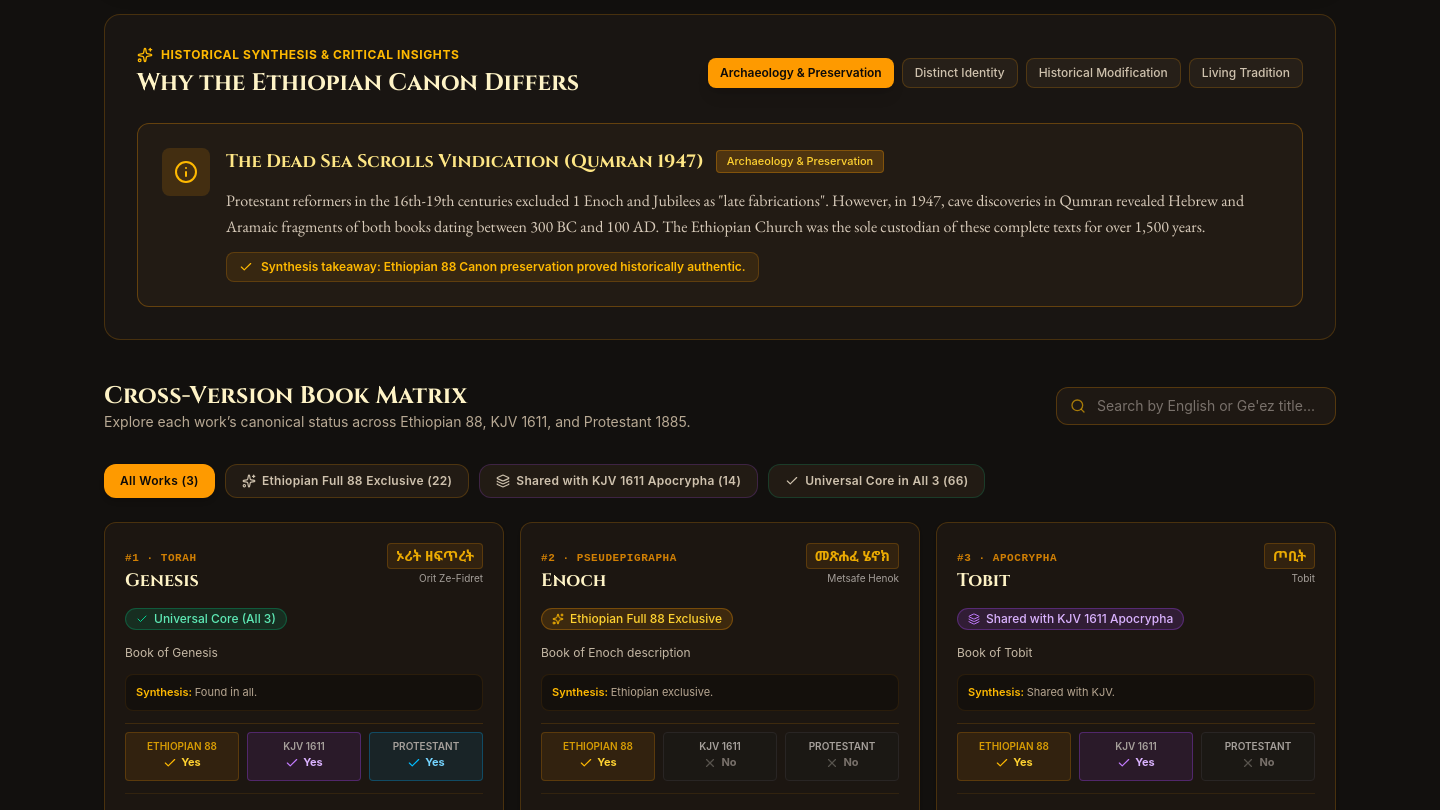
Test: CanonDashboard Component › shows empty state when no books match filters
(page scrolled)
Type "nonexistent book" into the field with placeholder "Search by English or Ge'ez title...".
click(1196, 406); type("nonexistent book")  # box x1=1056 y1=387 x2=1336 y2=425
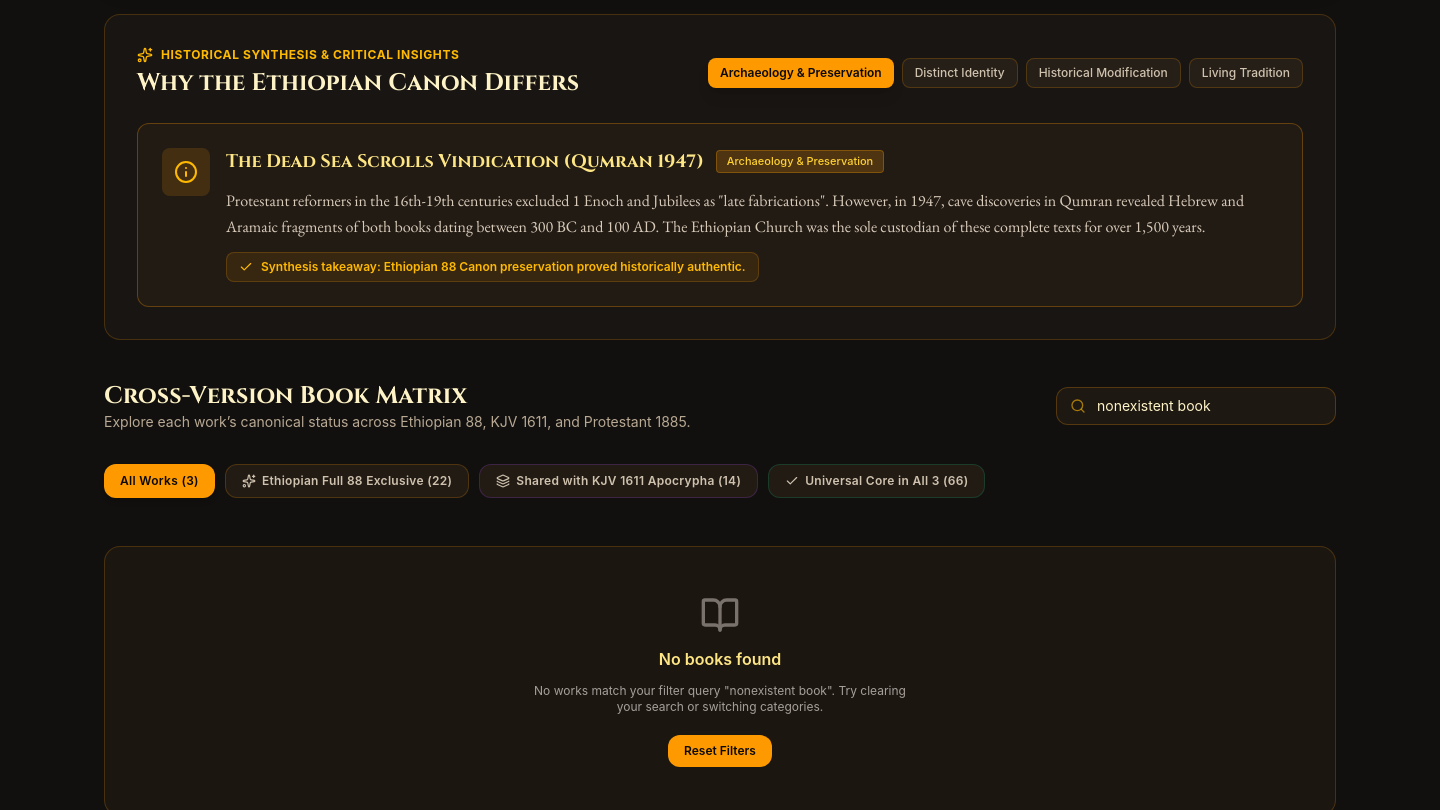
Check: the heading "No books found" is shown, box x1=659 y1=649 x2=781 y2=669
Check: the text "No works match your filter query" is shown, box x1=534 y1=683 x2=730 y2=698
Test Reset Filters button
Click the button "Reset Filters".
click(720, 751)  # box x1=668 y1=735 x2=772 y2=767
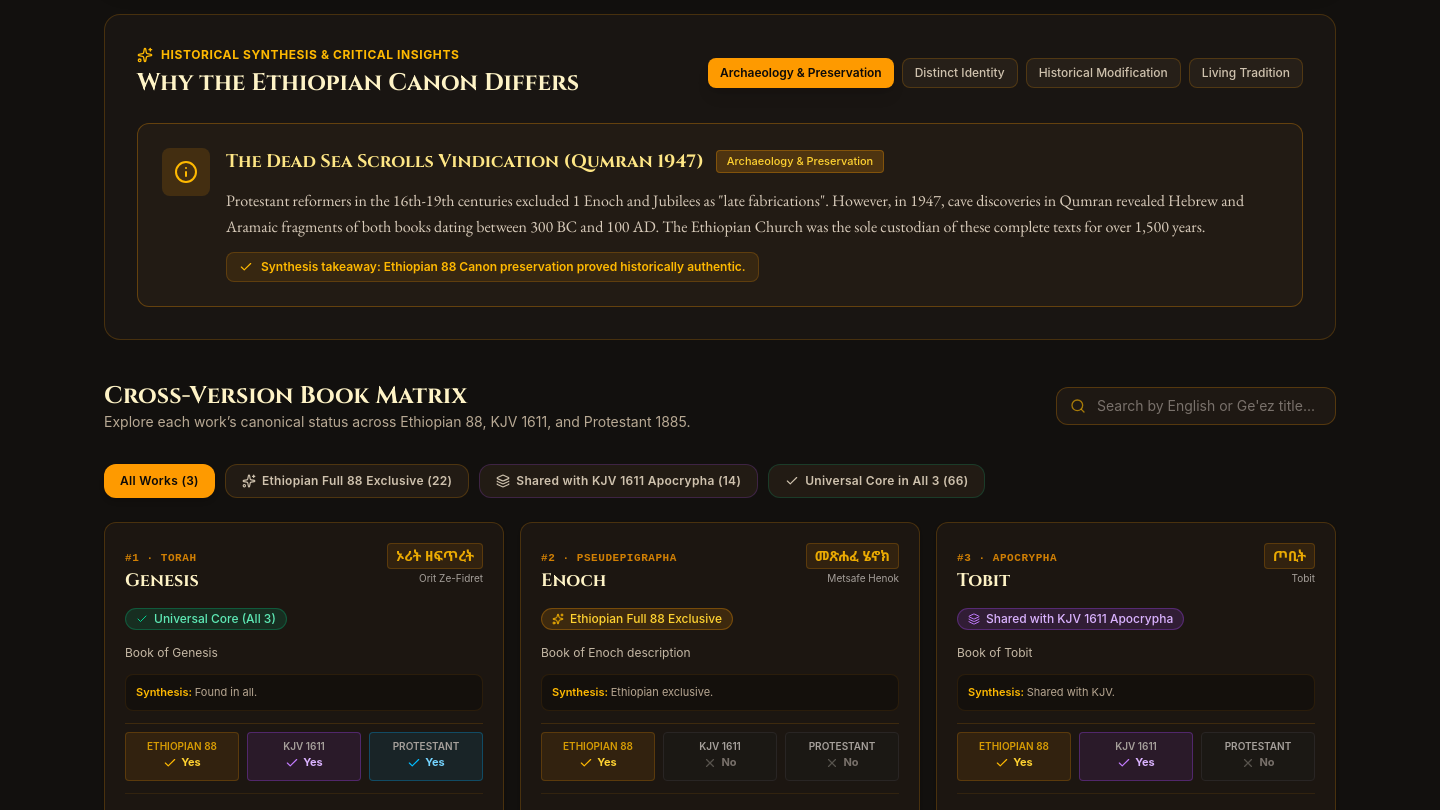
Check: the field with placeholder "Search by English or Ge'ez title..." is empty, box x1=1056 y1=387 x2=1336 y2=425
Check: the heading "Genesis" is shown, box x1=125 y1=567 x2=199 y2=595
